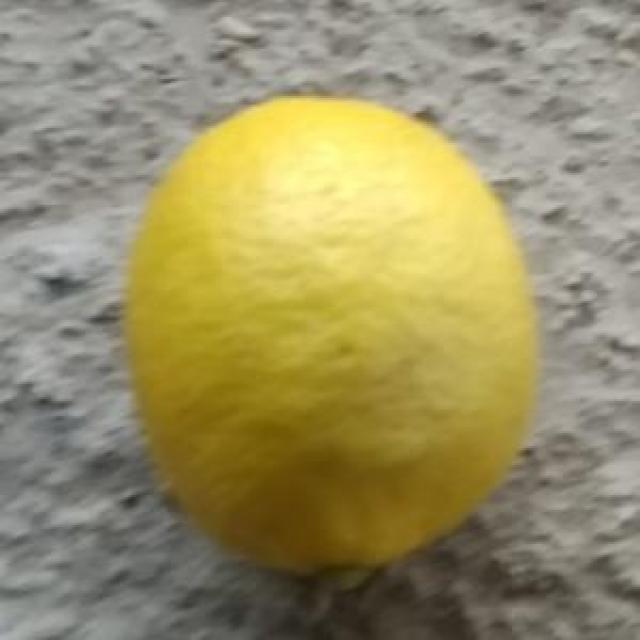lemon: (127, 90, 541, 586)
